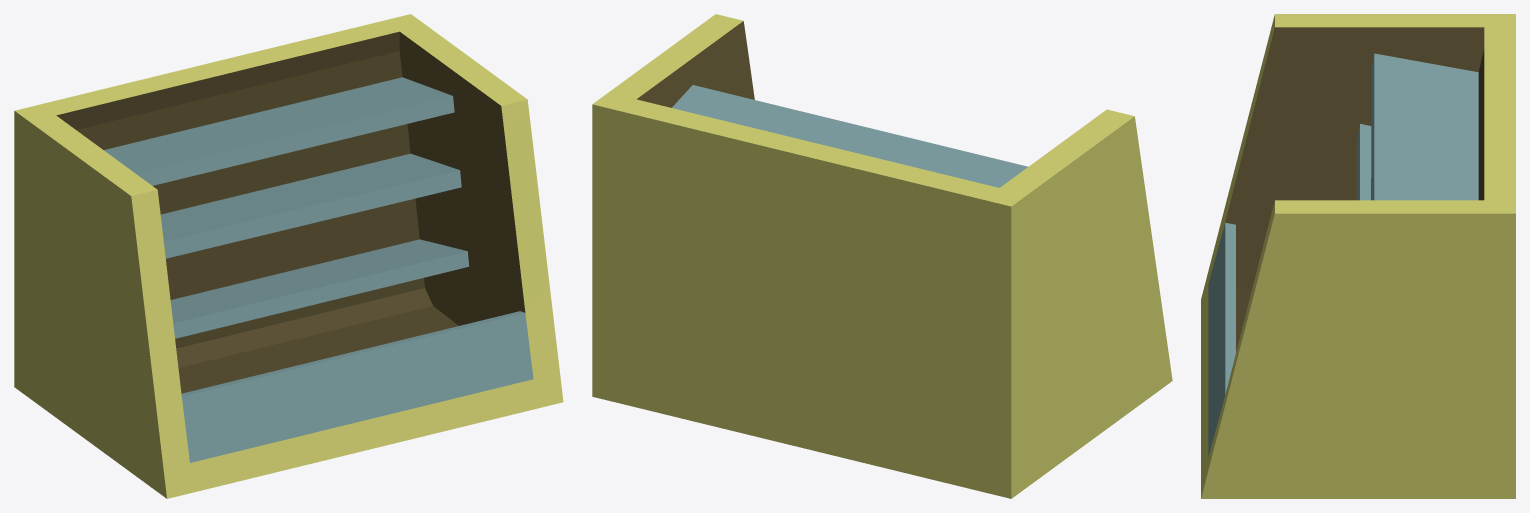
The model's file is SM_SupermarketCabinet.fbx.
3 views of the same model, side by side, from view 1: azimuth 30°, elevation 25°; view 2: azimuth 150°, elevation 25°; view 3: azimuth 270°, elevation 25° (orthographic). The views are drawn at different scales.
Parts seen in each view (by area): view 1: pCube1; view 2: pCube1; view 3: pCube1.
Part boxes in pixels (<box>): pCube1: <box>14,14,563,498</box>; pCube1: <box>592,14,1172,498</box>; pCube1: <box>1201,14,1515,498</box>.
Bounding box in the file's own units: 0.015 × 0.01 × 0.01.
